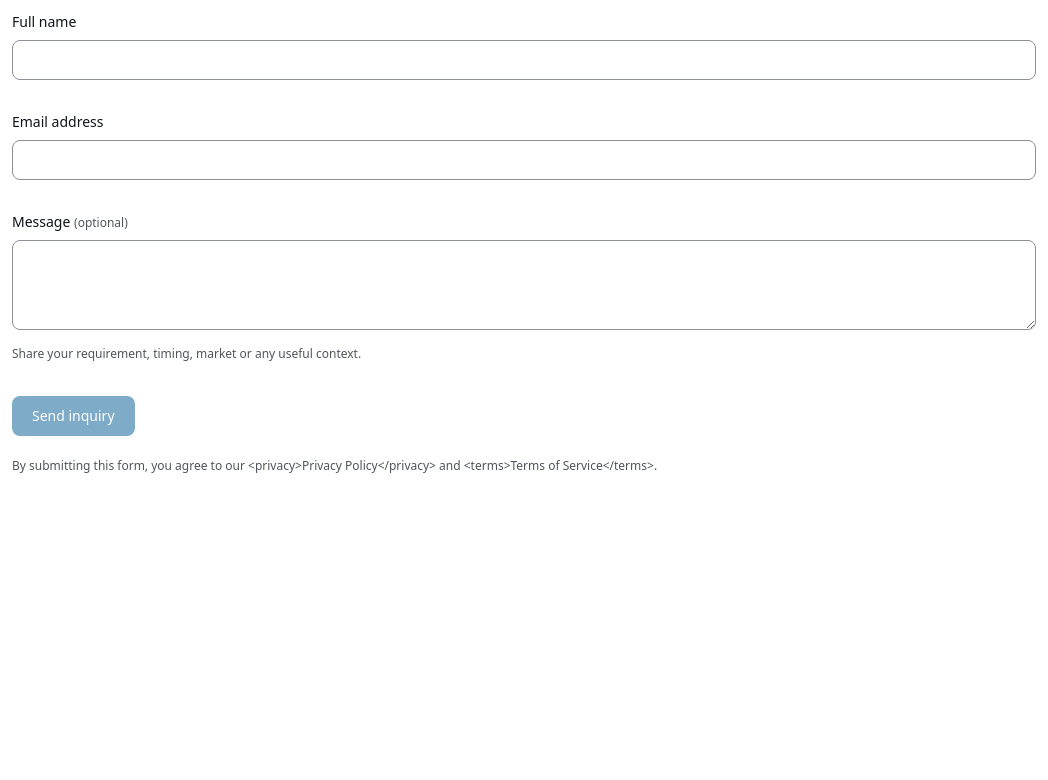
Test case: InquiryForm contract › does not post without a Turnstile token
Type "No Token" into the field labelled "Full name" at (524, 60), box [12,40,1036,80]
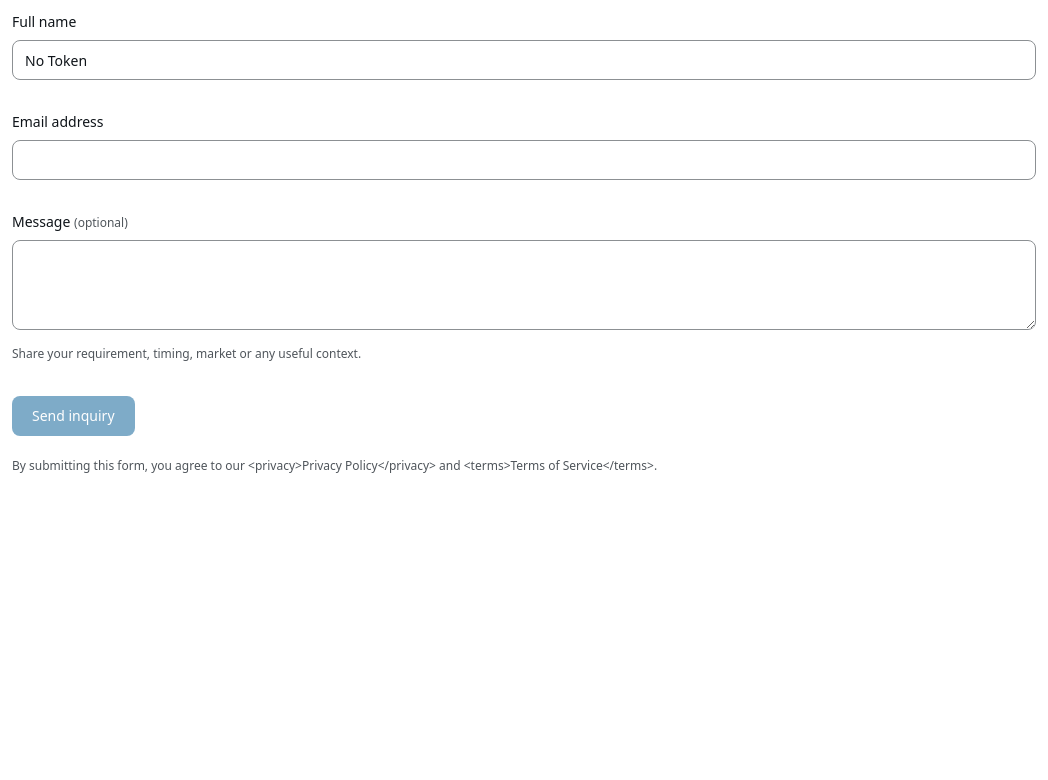
Type "token@example.com" into the field labelled "Email address" at (524, 160), box [12,140,1036,180]
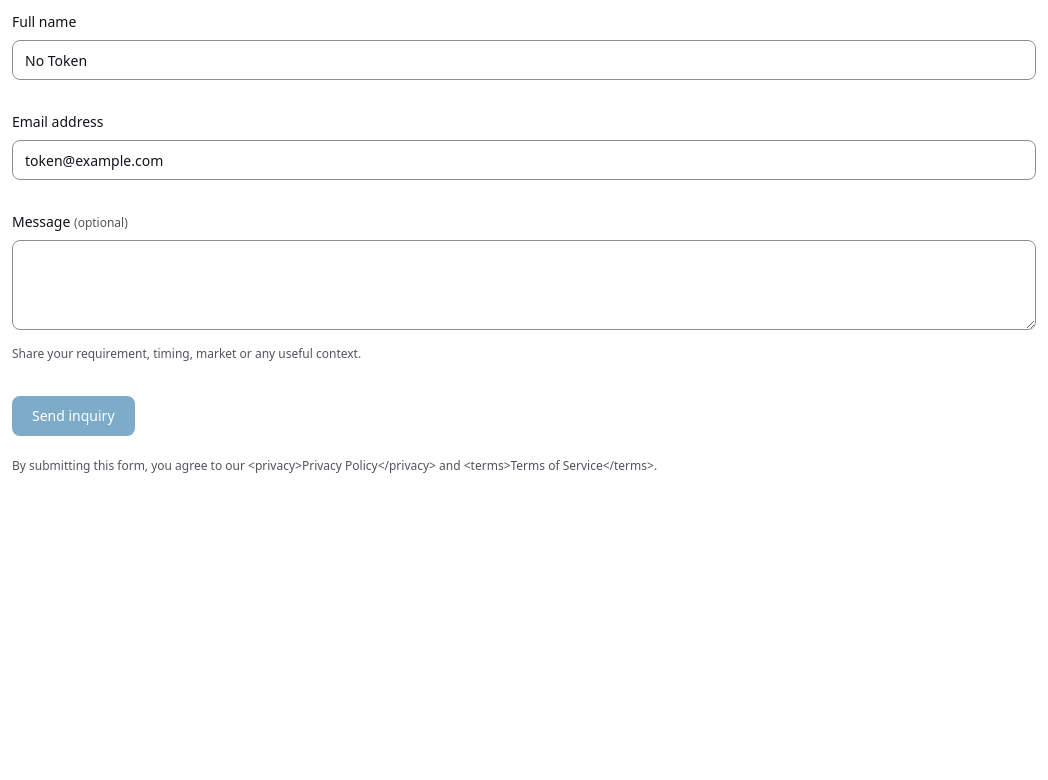
Check: the button "Send inquiry" is disabled, box [12,396,134,436]
Submit the form with test id "inquiry-form", box [12,12,1036,476]
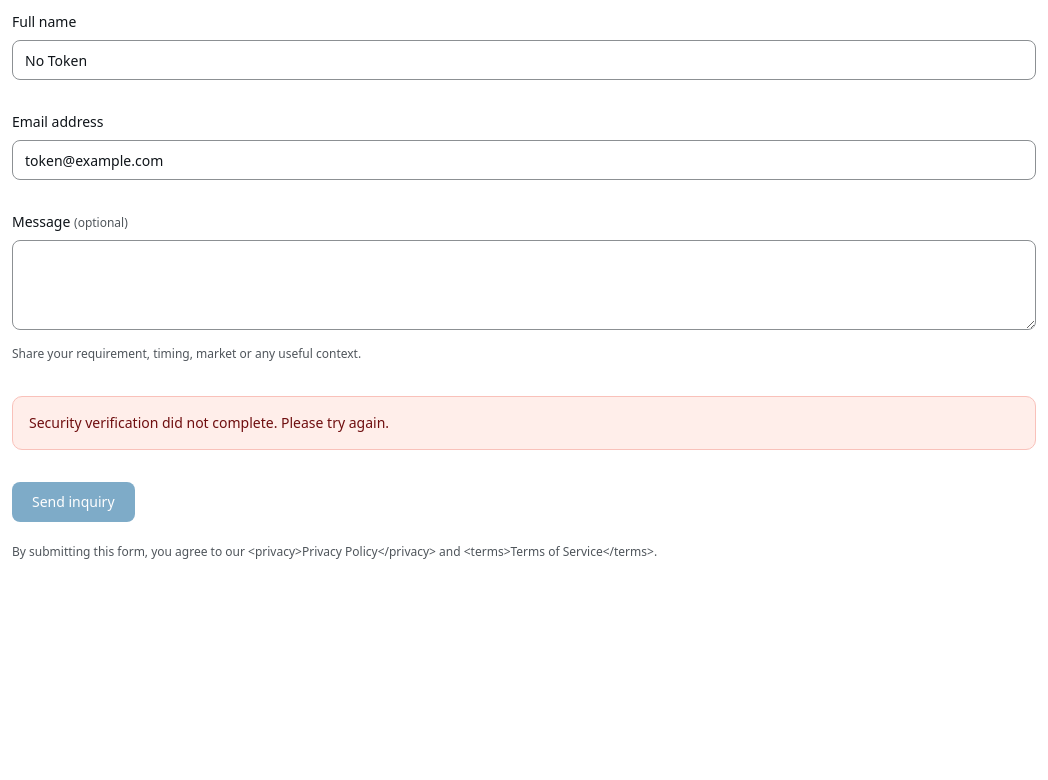
Check: the text "Security verification did not complete. Please try again." is shown, box [29,413,389,432]
